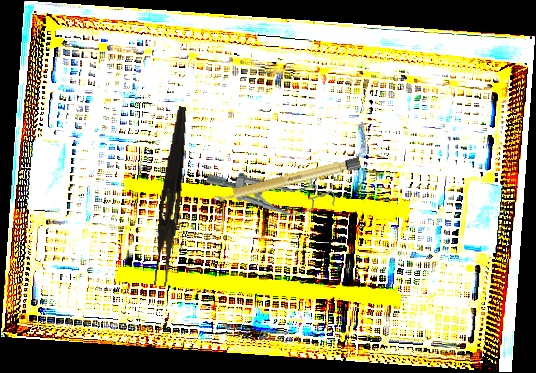Dressing Forceps: (153, 105, 189, 287)
Scalpel Handle: (212, 156, 362, 204)
Speculum: (204, 164, 341, 218)
